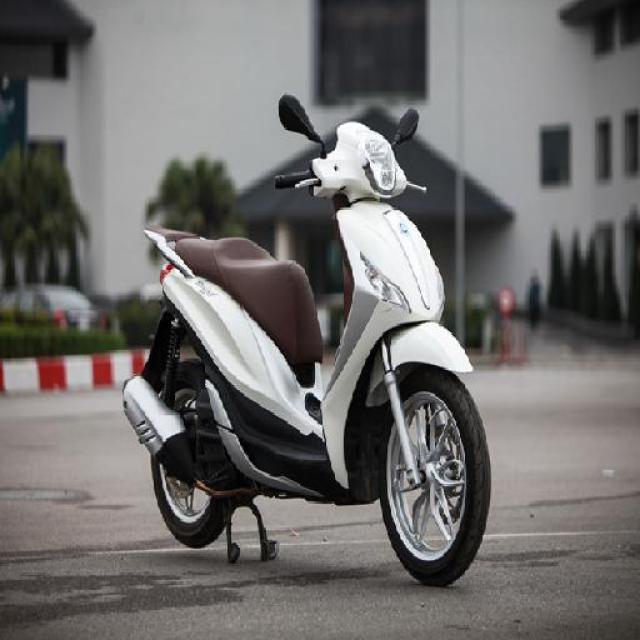All: (116, 117, 494, 587)
Head: (273, 122, 429, 206)
Tail: (140, 222, 196, 292)
